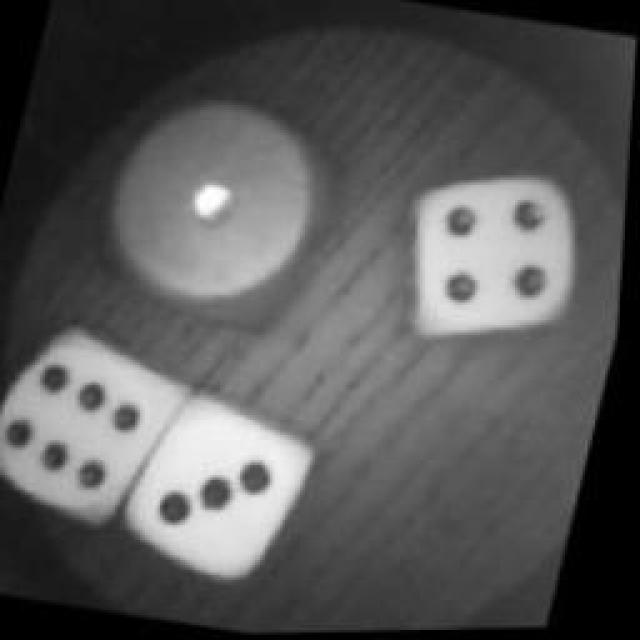dice_1: (78, 76, 362, 354)
dice_3: (126, 394, 329, 601)
dice_4: (386, 145, 612, 365)
dice_6: (0, 324, 182, 537)
